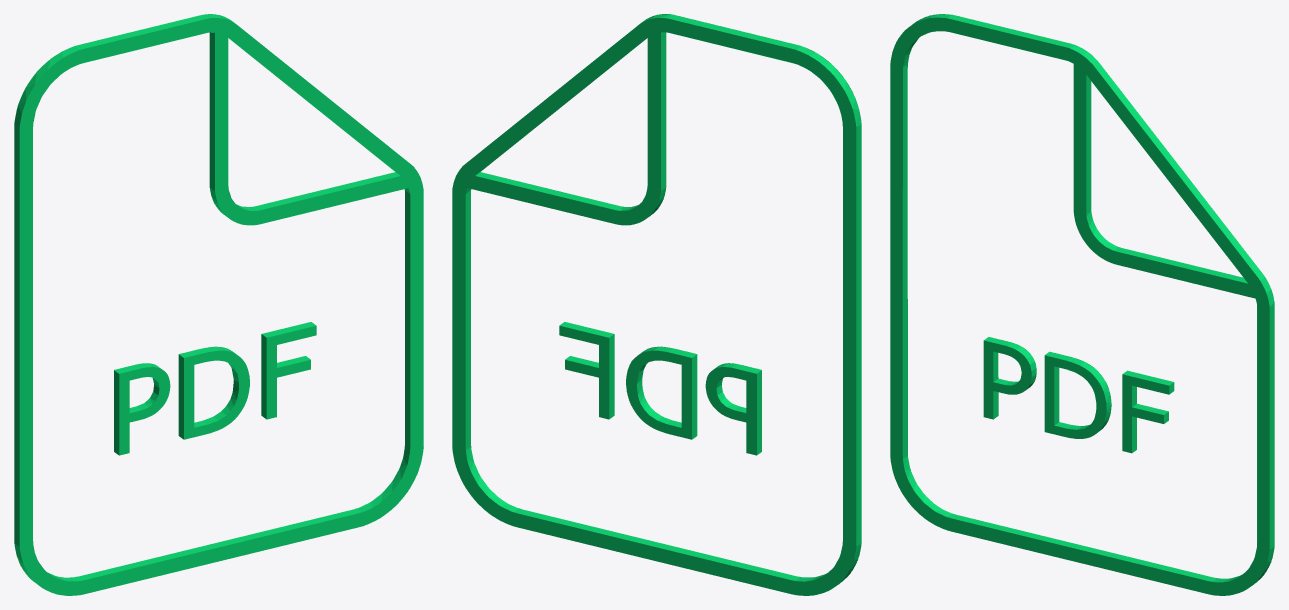
The model's file is document-pdf-green.glb.
3 renders of one model, left to right at view 1: azimuth 30°, elevation 25°; view 2: azimuth 150°, elevation 25°; view 3: azimuth 330°, elevation 25°, orthographic. The views are drawn at different scales.
Parts seen in each view (by area): view 1: text1; view 2: text1; view 3: text1.
Part boxes in pixels (x1,y1,x2,y2): text1: (14,14,423,595); text1: (452,14,861,595); text1: (890,14,1274,595).
Size of the model in its own units: 1.11 by 1.43 by 0.0253.
